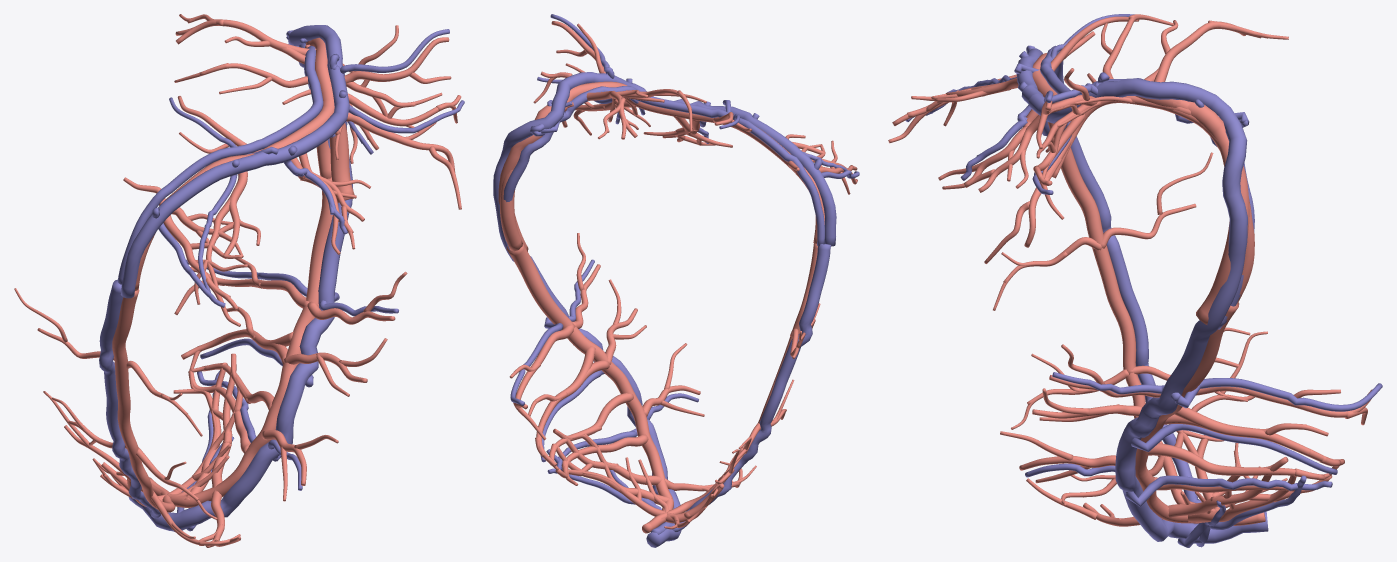
File: vessels_35.glb
3 renders of one model, left to right at view 1: azimuth 30°, elevation 25°; view 2: azimuth 150°, elevation 25°; view 3: azimuth 270°, elevation 25°, orthographic. The views are drawn at different scales.
Parts seen in each view (by area): view 1: Renderer Node; view 2: Renderer Node; view 3: Renderer Node.
Boxes of the visible parts, bbox=[...] form: Renderer Node: bbox=[14, 14, 464, 547]; Renderer Node: bbox=[493, 14, 859, 547]; Renderer Node: bbox=[888, 14, 1382, 547].
Bounding box in the file's own units: 93.93 × 121 × 95.07.
